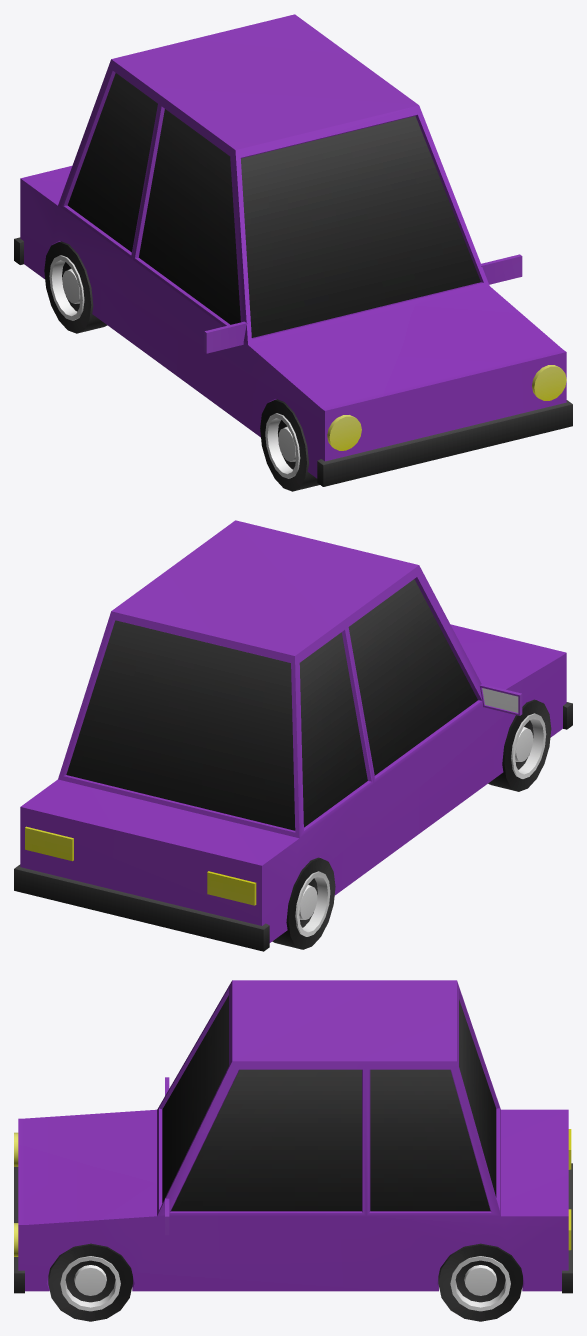
File: purpleCar.fbx
3 views of the same model, one above another, from view 1: azimuth 30°, elevation 25°; view 2: azimuth 150°, elevation 25°; view 3: azimuth 270°, elevation 25° (orthographic). The views are drawn at different scales.
Parts seen in each view (by area): view 1: carBody, tire3, tire2, carHeadlight, carHeadlight1, carMirror1, carMirror; view 2: carBody, tire3, tire2, carMirror1; view 3: carBody, tire, tire1.
Part boxes in pixels (bbox=[...]): carBody: bbox=[14, 14, 572, 486]; tire3: bbox=[44, 241, 107, 333]; tire2: bbox=[260, 399, 319, 491]; carHeadlight: bbox=[532, 365, 566, 400]; carHeadlight1: bbox=[327, 415, 361, 450]; carMirror1: bbox=[204, 321, 247, 353]; carMirror: bbox=[481, 254, 522, 284]; carBody: bbox=[14, 520, 572, 951]; tire3: bbox=[272, 857, 335, 949]; tire2: bbox=[488, 699, 551, 791]; carMirror1: bbox=[479, 684, 522, 715]; carBody: bbox=[14, 980, 572, 1293]; tire: bbox=[438, 1243, 522, 1321]; tire1: bbox=[48, 1243, 132, 1321].
Size of the model in its own units: 194 by 161 by 330.
Materials: 1 (1 with a texture image).
